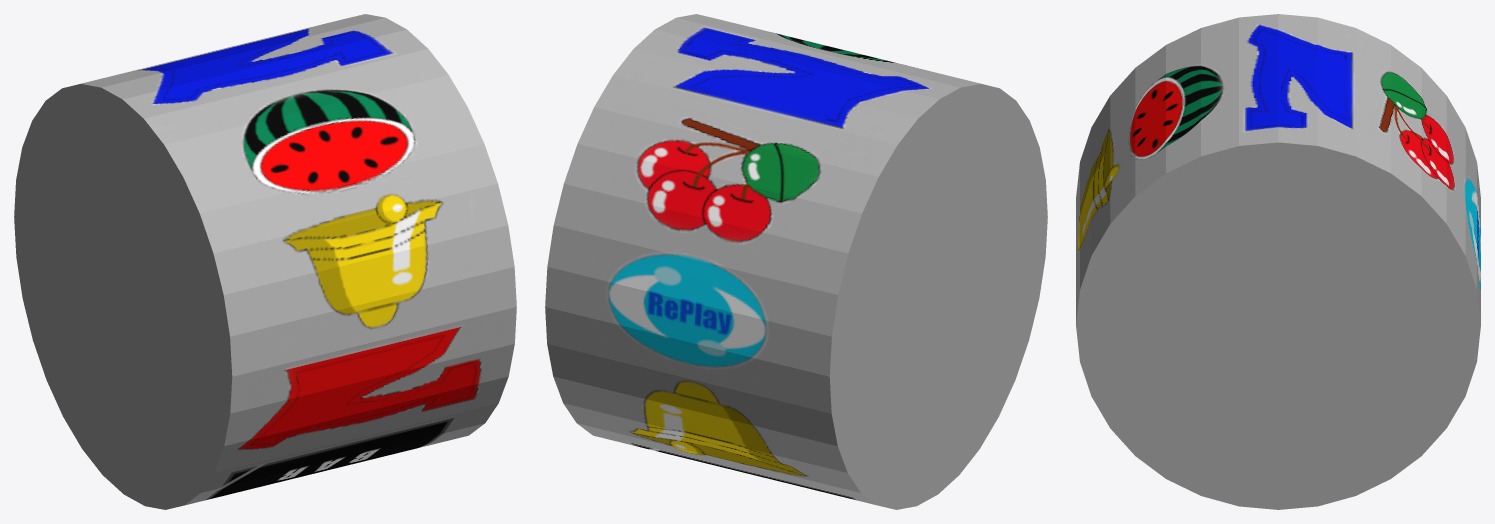
The model's file is Reel2.obj.
3 views of the same model, side by side, from view 1: azimuth 30°, elevation 25°; view 2: azimuth 150°, elevation 25°; view 3: azimuth 270°, elevation 25° (orthographic). The views are drawn at different scales.
Parts seen in each view (by area): view 1: 円柱; view 2: 円柱; view 3: 円柱.
Boxes of the visible parts, <box> form: 円柱: <box>14,14,516,509</box>; 円柱: <box>545,14,1047,509</box>; 円柱: <box>1076,14,1480,509</box>.
Bounding box in the file's own units: 4.02 × 5.31 × 5.31.
1 material, 1 textured.
